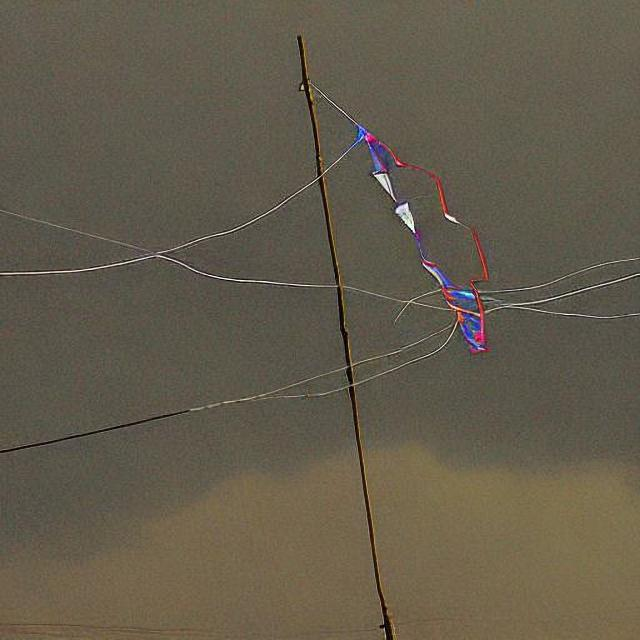floating object: (349, 108, 488, 348)
